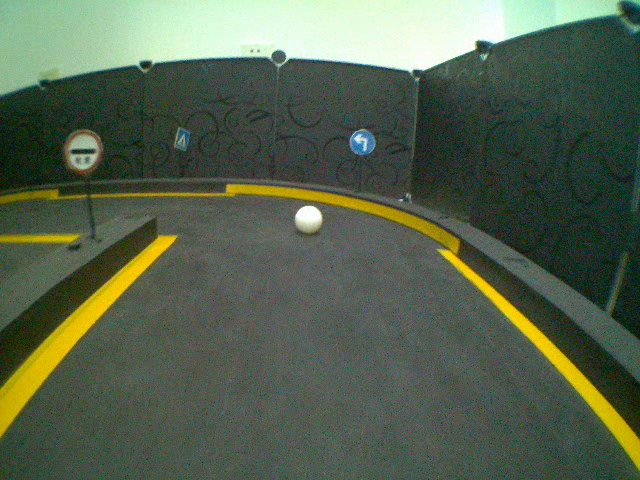ball: (294, 204, 324, 236)
